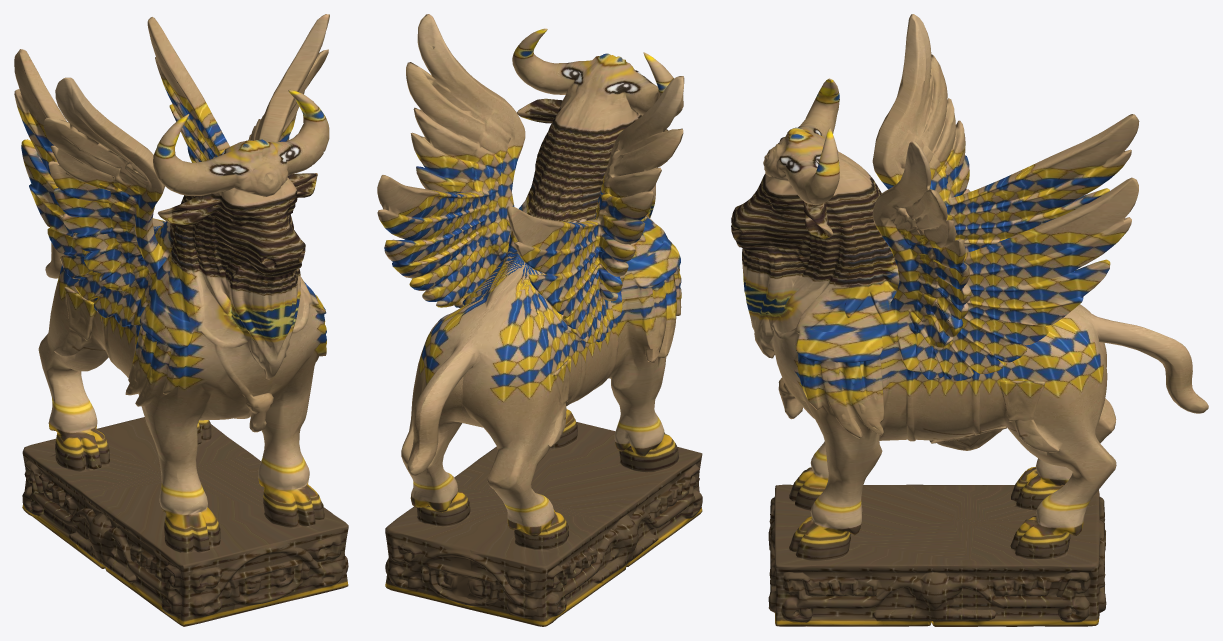
The model's file is babylon_lamassu_dec.glb.
3 views of the same model, side by side, from view 1: azimuth 30°, elevation 25°; view 2: azimuth 150°, elevation 25°; view 3: azimuth 270°, elevation 25° (orthographic). The views are drawn at different scales.
Visible parts, largest first — view 1: BabylonLamassu; view 2: BabylonLamassu; view 3: BabylonLamassu.
Boxes of the visible parts, x1,y1,x2,y2 form: BabylonLamassu: [14, 14, 348, 626]; BabylonLamassu: [377, 14, 702, 626]; BabylonLamassu: [731, 14, 1208, 626].
Size of the model in its own units: 1.11 by 1.9 by 1.62.
Materials: 1 (1 with a texture image).
